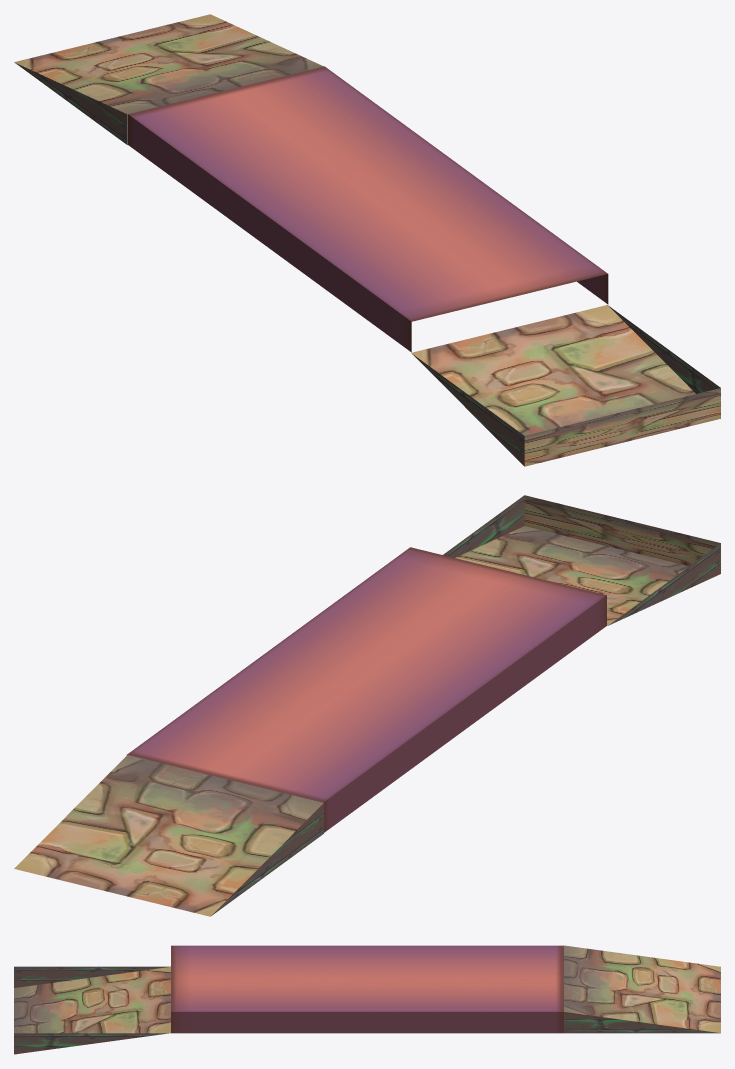
File: PressurePlate.FBX
The picture shows the model from 3 angles, top to bottom: view 1: azimuth 30°, elevation 25°; view 2: azimuth 150°, elevation 25°; view 3: azimuth 270°, elevation 25°; orthographic projection. The views are drawn at different scales.
Parts seen in each view (by area): view 1: PressurePlate, PressurePlateSlopeRight, PressurePlateSlopeLeft; view 2: PressurePlate, PressurePlateSlopeLeft, PressurePlateSlopeRight; view 3: PressurePlate, PressurePlateSlopeRight, PressurePlateSlopeLeft.
Part boxes in pixels (box(x1,y1,x2,y2)): PressurePlate: box(128, 66, 608, 352); PressurePlateSlopeRight: box(411, 305, 720, 466); PressurePlateSlopeLeft: box(14, 14, 323, 144); PressurePlate: box(126, 547, 606, 832); PressurePlateSlopeLeft: box(14, 755, 323, 916); PressurePlateSlopeRight: box(443, 495, 720, 625); PressurePlate: box(171, 945, 563, 1033); PressurePlateSlopeRight: box(14, 966, 170, 1054); PressurePlateSlopeLeft: box(564, 945, 720, 1033).
Bounding box in the file's own units: 64.23 × 19.2 × 288.
